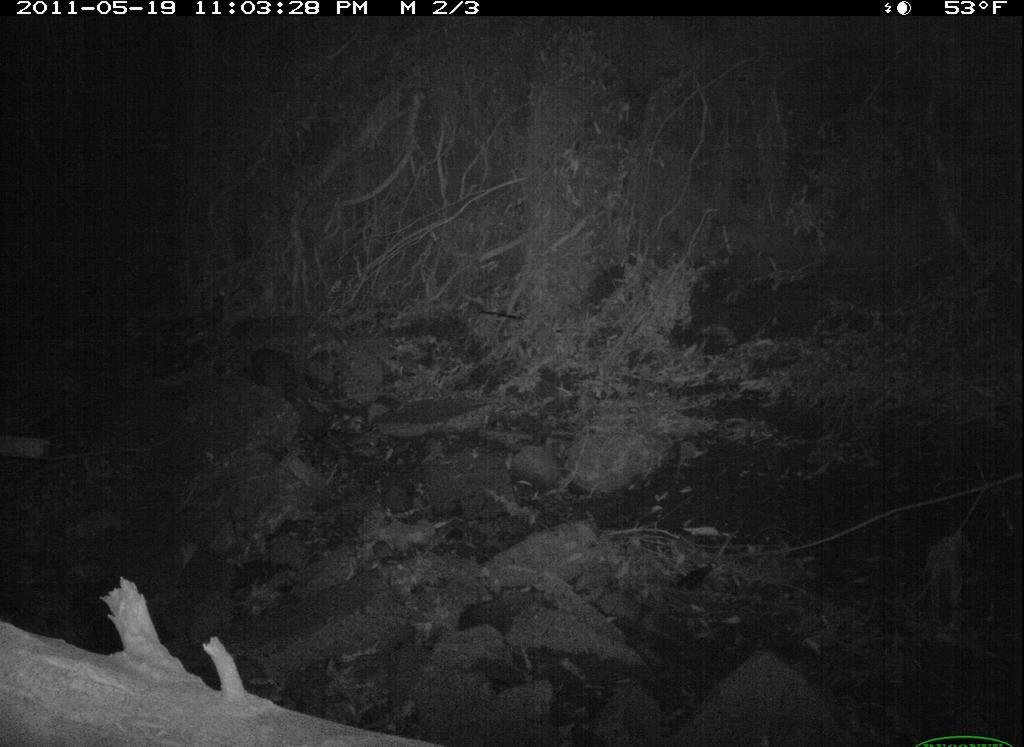raccoon: (244, 349, 326, 410)
